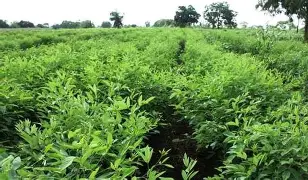crops: (0, 25, 305, 178), (2, 119, 80, 179), (207, 27, 308, 70), (116, 27, 203, 71), (242, 94, 308, 144), (0, 48, 79, 89), (0, 10, 145, 28), (77, 53, 144, 88), (99, 90, 152, 132), (0, 27, 82, 53), (173, 1, 238, 28), (54, 94, 99, 132), (133, 146, 174, 179), (189, 116, 228, 148), (219, 155, 254, 179), (105, 156, 131, 178), (179, 151, 199, 178), (132, 36, 151, 51), (224, 116, 240, 128), (169, 86, 182, 100), (18, 90, 34, 101), (19, 39, 34, 50), (86, 52, 99, 62), (80, 33, 91, 41)
